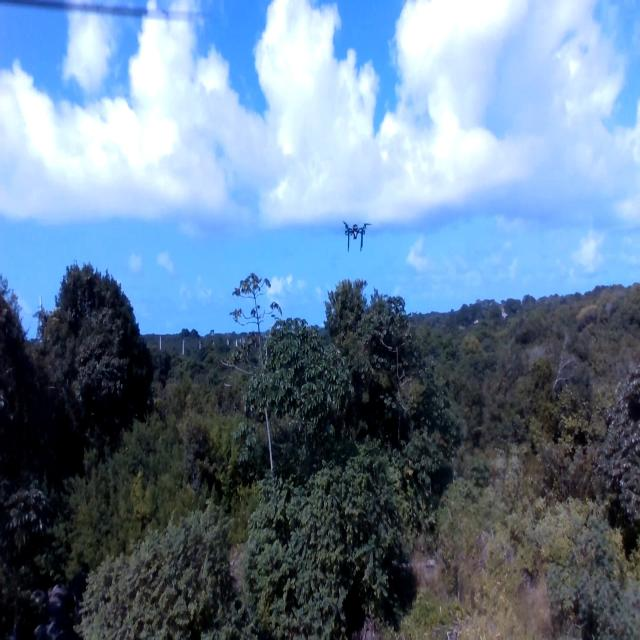-uav-: (337, 209, 376, 259)
